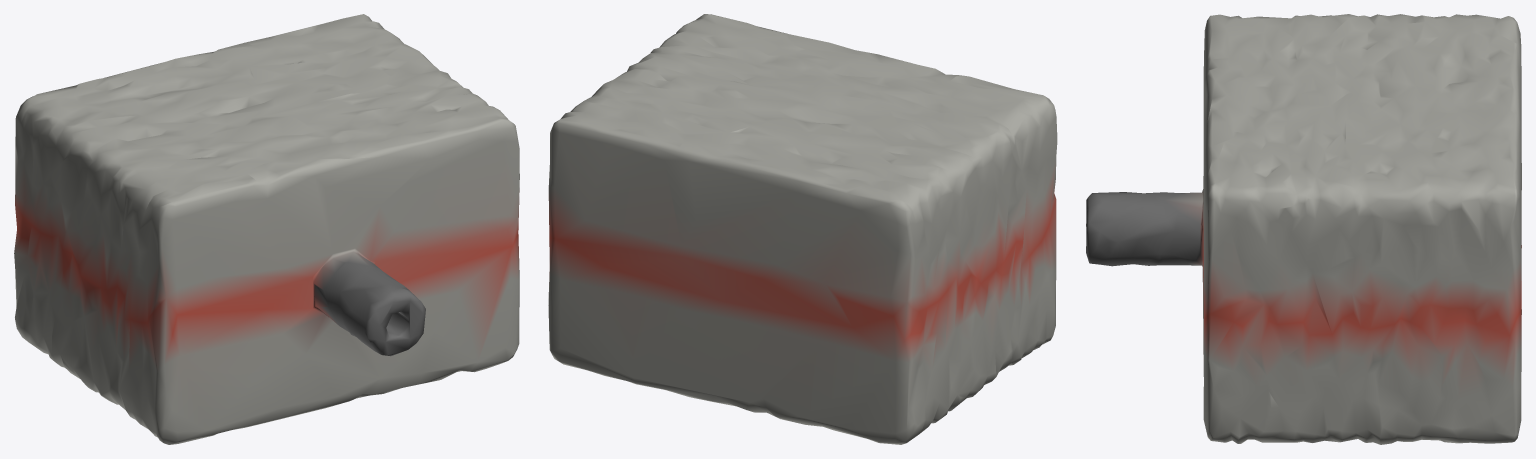
The model's file is sample-hull.glb.
3 renders of one model, left to right at view 1: azimuth 30°, elevation 25°; view 2: azimuth 150°, elevation 25°; view 3: azimuth 270°, elevation 25°, orthographic. The views are drawn at different scales.
Visible parts, largest first — view 1: Part_Torso; view 2: Part_Torso; view 3: Part_Torso.
Part boxes in pixels (x1=…): Part_Torso: x1=14, y1=14, x2=519, y2=444; Part_Torso: x1=548, y1=14, x2=1057, y2=444; Part_Torso: x1=1086, y1=14, x2=1521, y2=444.
Size of the model in its own units: 2.4 by 1.56 by 2.37.
